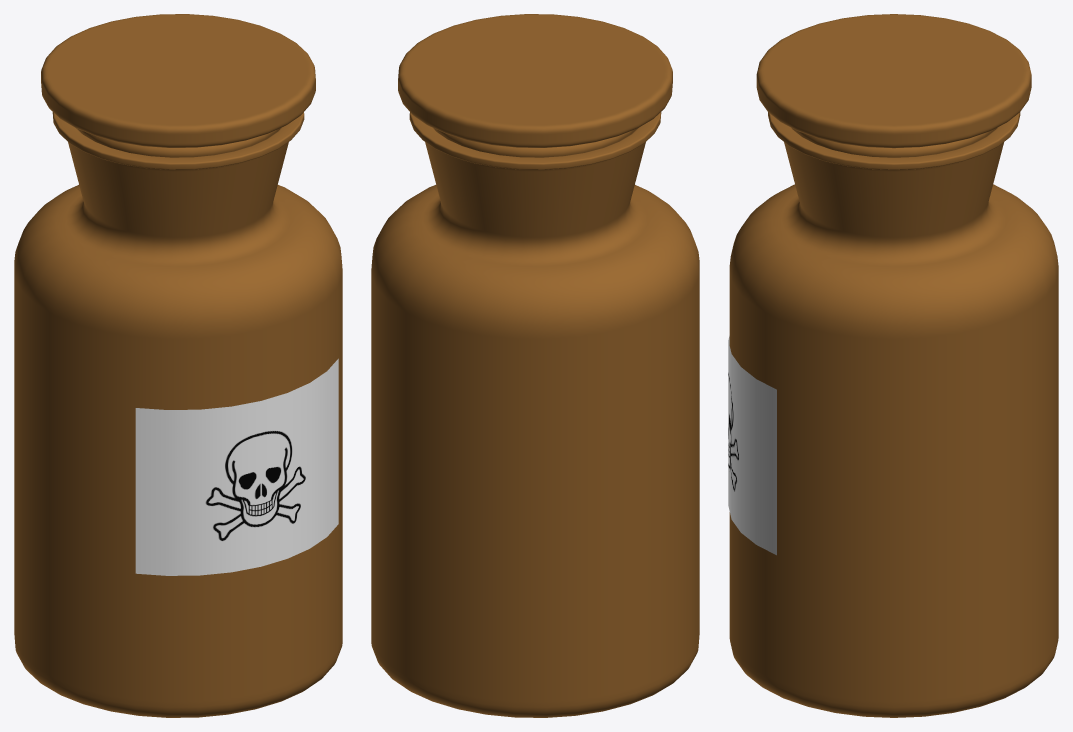
File: Poison.FBX
3 views of the same model, side by side, from view 1: azimuth 30°, elevation 25°; view 2: azimuth 150°, elevation 25°; view 3: azimuth 270°, elevation 25° (orthographic).
Parts seen in each view (by area): view 1: Bottle, Label, Cap; view 2: Bottle, Cap; view 3: Bottle, Cap, Label.
Part boxes in pixels (box(x1,y1,x2,y2)): Bottle: box(14, 112, 342, 717); Label: box(135, 358, 338, 575); Cap: box(41, 14, 315, 157); Bottle: box(371, 112, 699, 717); Cap: box(398, 14, 672, 157); Bottle: box(729, 112, 1058, 717); Cap: box(756, 14, 1031, 157); Label: box(728, 336, 776, 555).
Size of the model in its own units: 7.86 by 15.4 by 7.89.
Materials: 2 (1 with a texture image).
